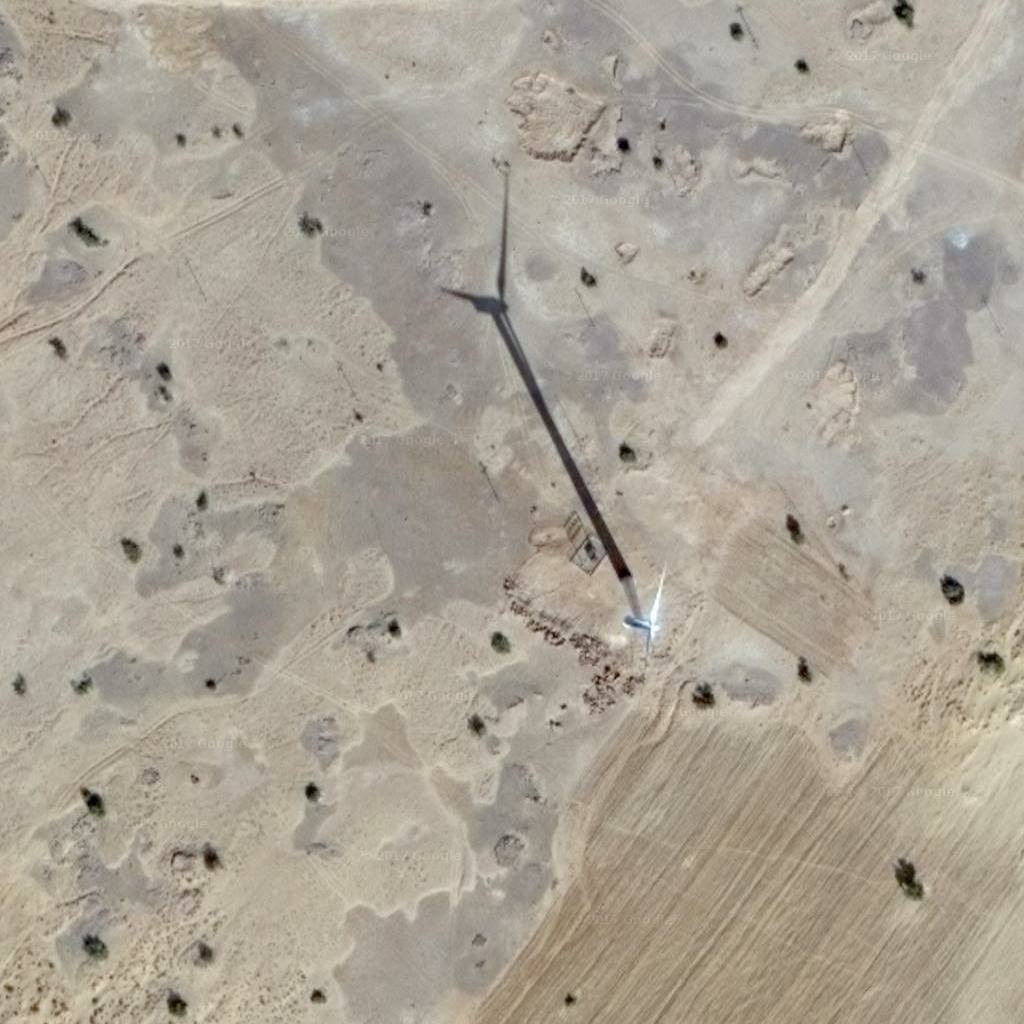Windmill: (426, 185, 645, 576)
